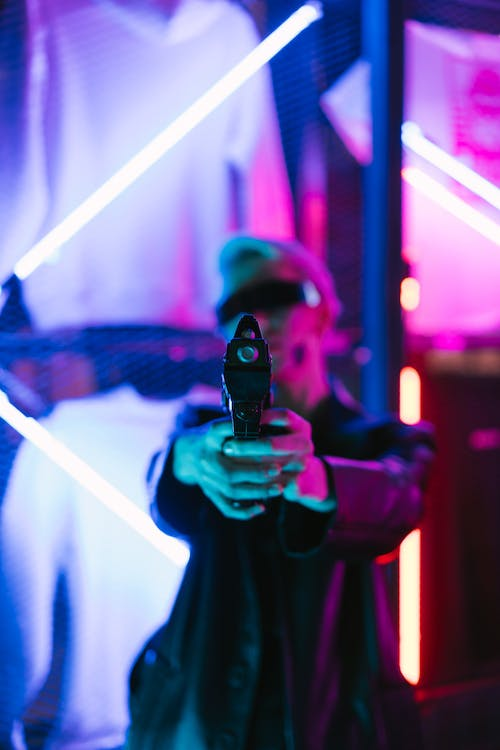gun: (216, 307, 276, 441)
